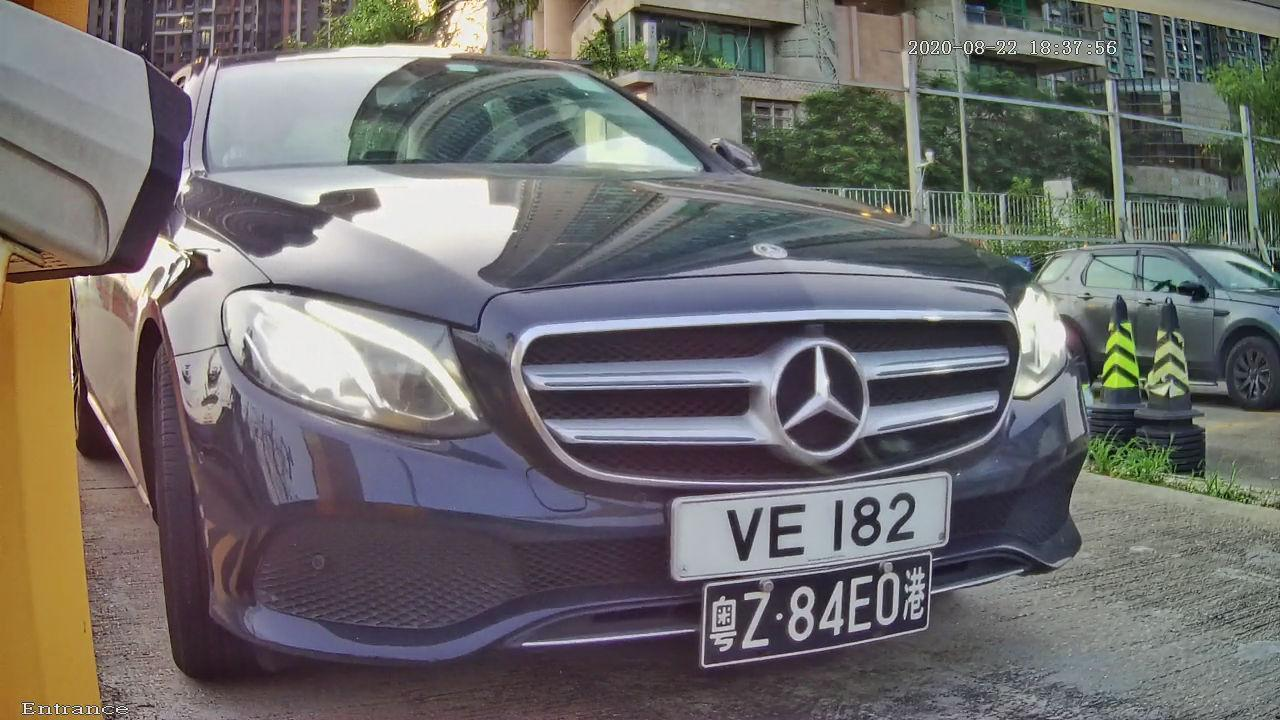Car: (35, 10, 1172, 720)
License Plate: (650, 438, 989, 615)
